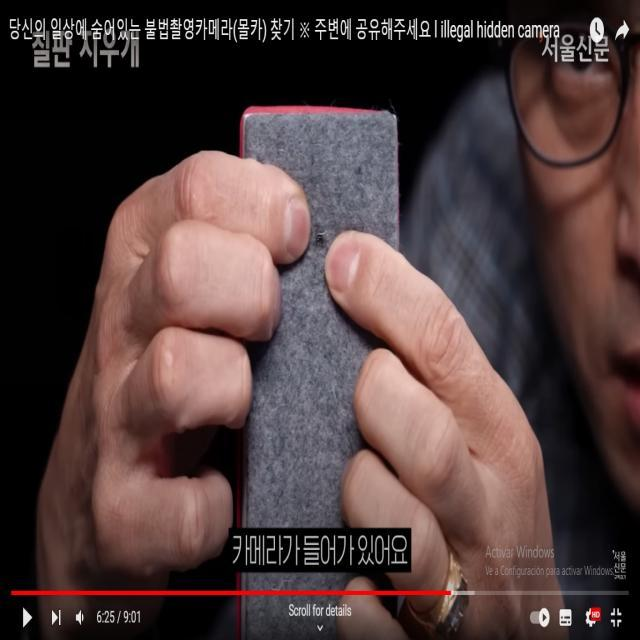hidden camera: (317, 235, 324, 248)
